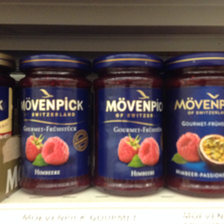jam: (19, 54, 94, 196), (92, 53, 165, 198), (166, 53, 224, 198)
